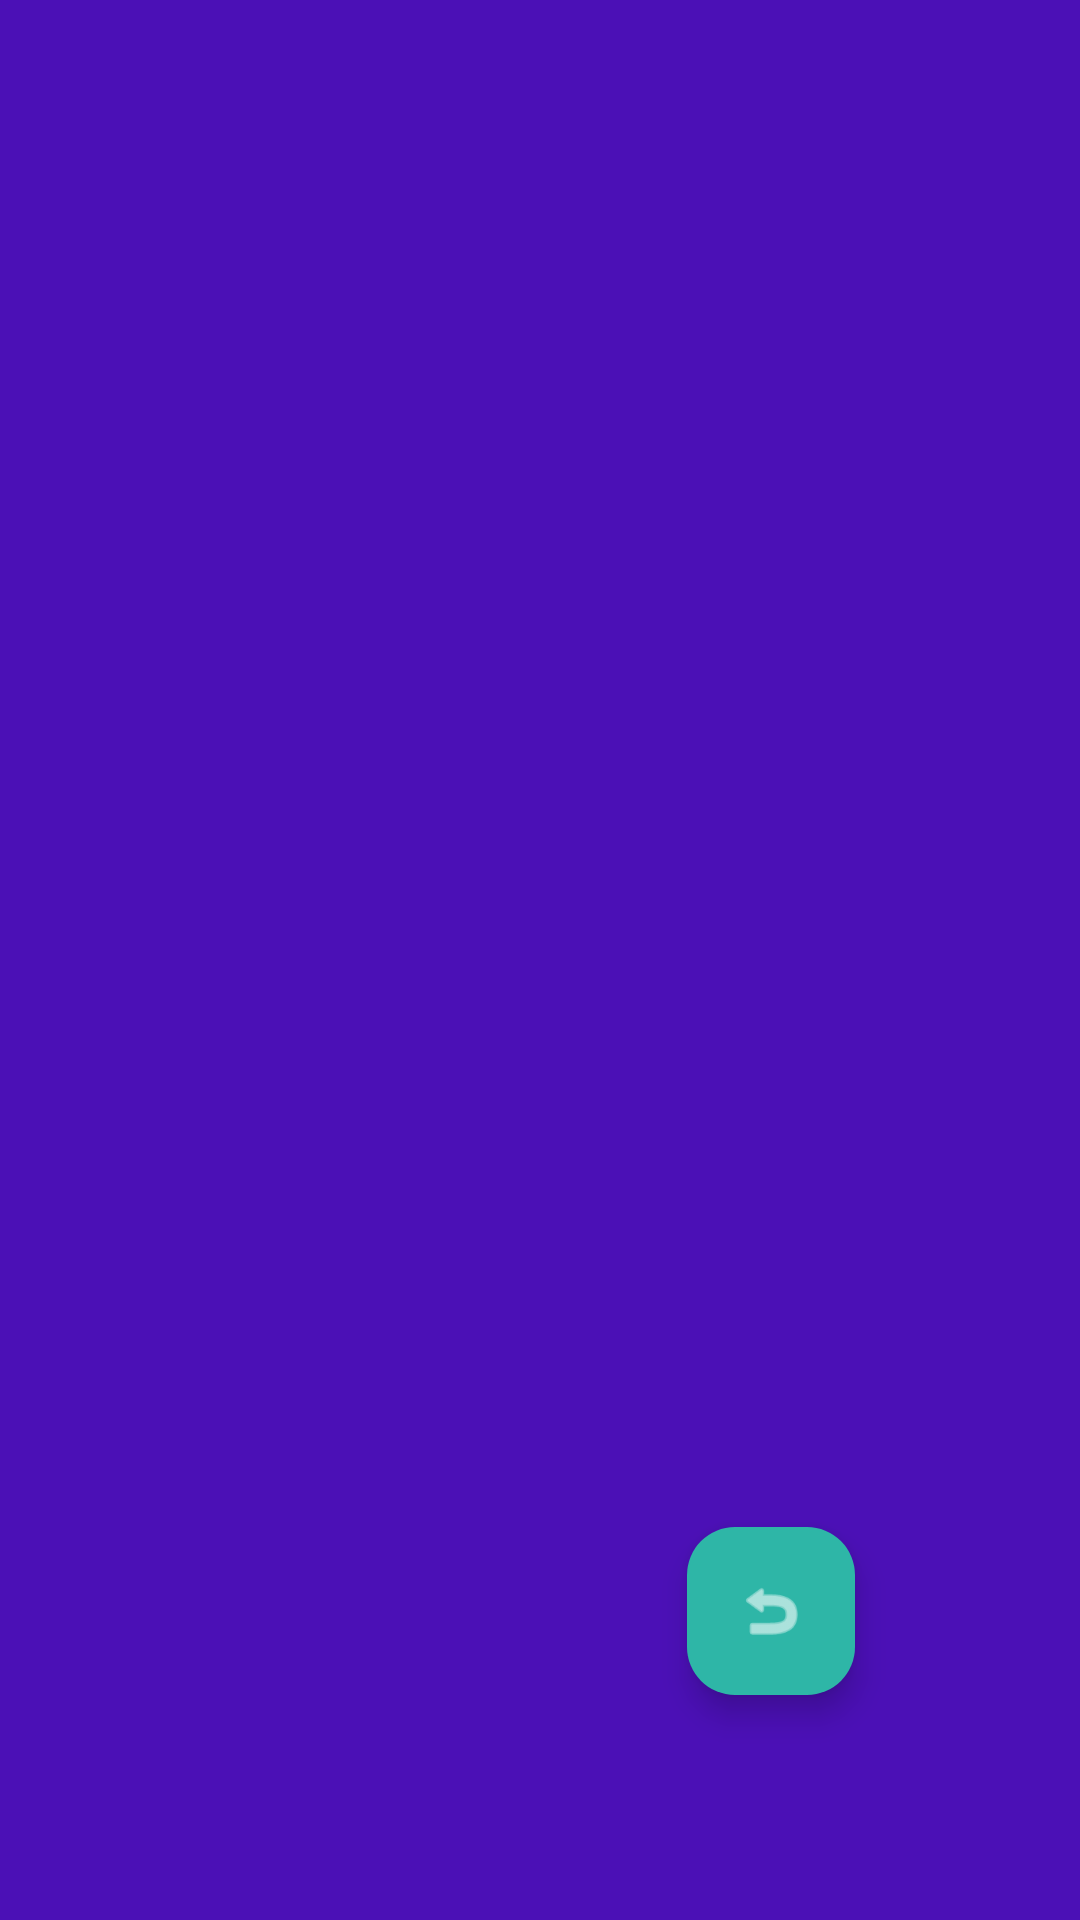

Named icons in this screenshot (1080x1920) and their bounding boxes, (x1, y1, x2, y2):
Volver al buscador: (687, 1527, 855, 1695)
